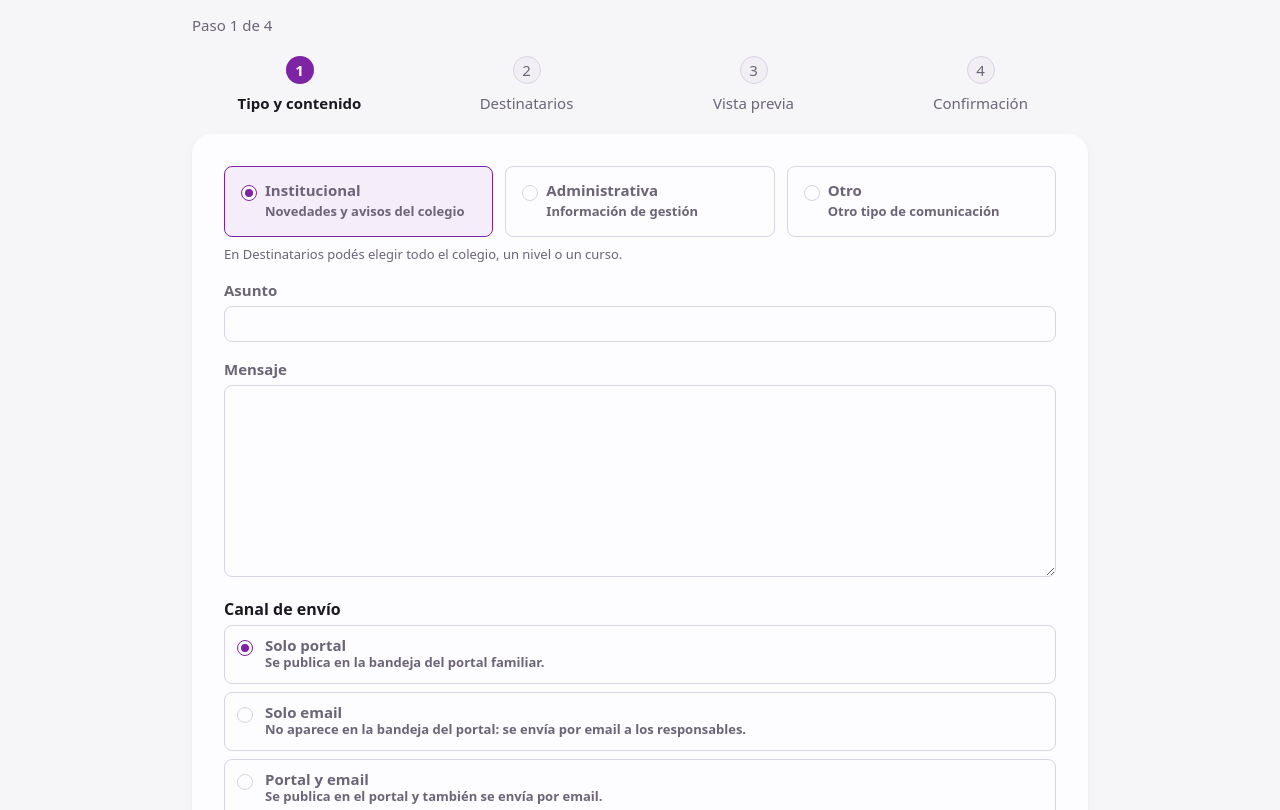
it: persists the email-only channel and never claims portal availability
The image size is (1280, 810).
Type "Aviso" into the field labelled "Asunto" at (640, 324), box [224,306,1056,342]
Type "Solo por correo" into the text box labelled "Mensaje" at (640, 481), box [224,385,1056,577]
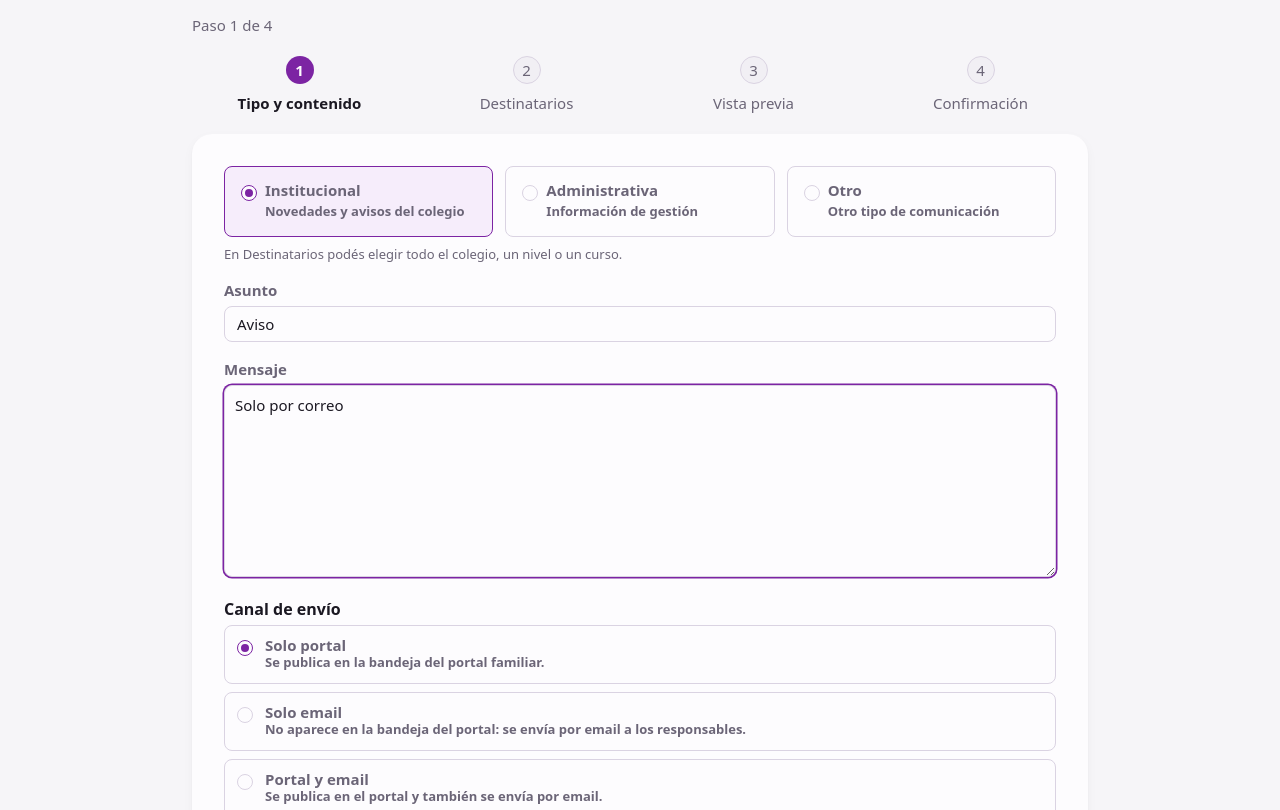
Click the radio button named "Solo email" next to "Solo email" at (245, 715), box [237,707,253,723]
(page scrolled)
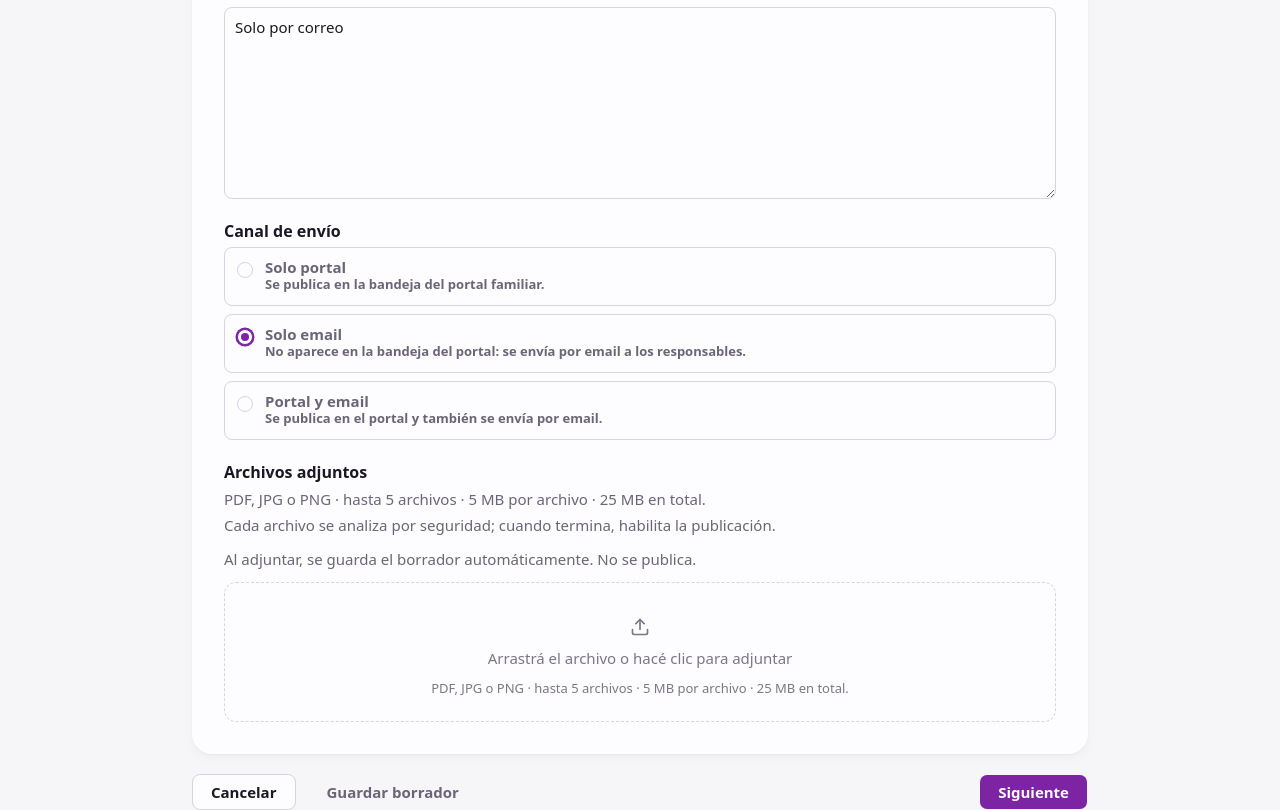
Expected: the text "No aparece en la bandeja del portal" is shown, [265,342,746,360]
Click the button "Guardar borrador" at (393, 792), box [308,774,478,809]
(page scrolled)
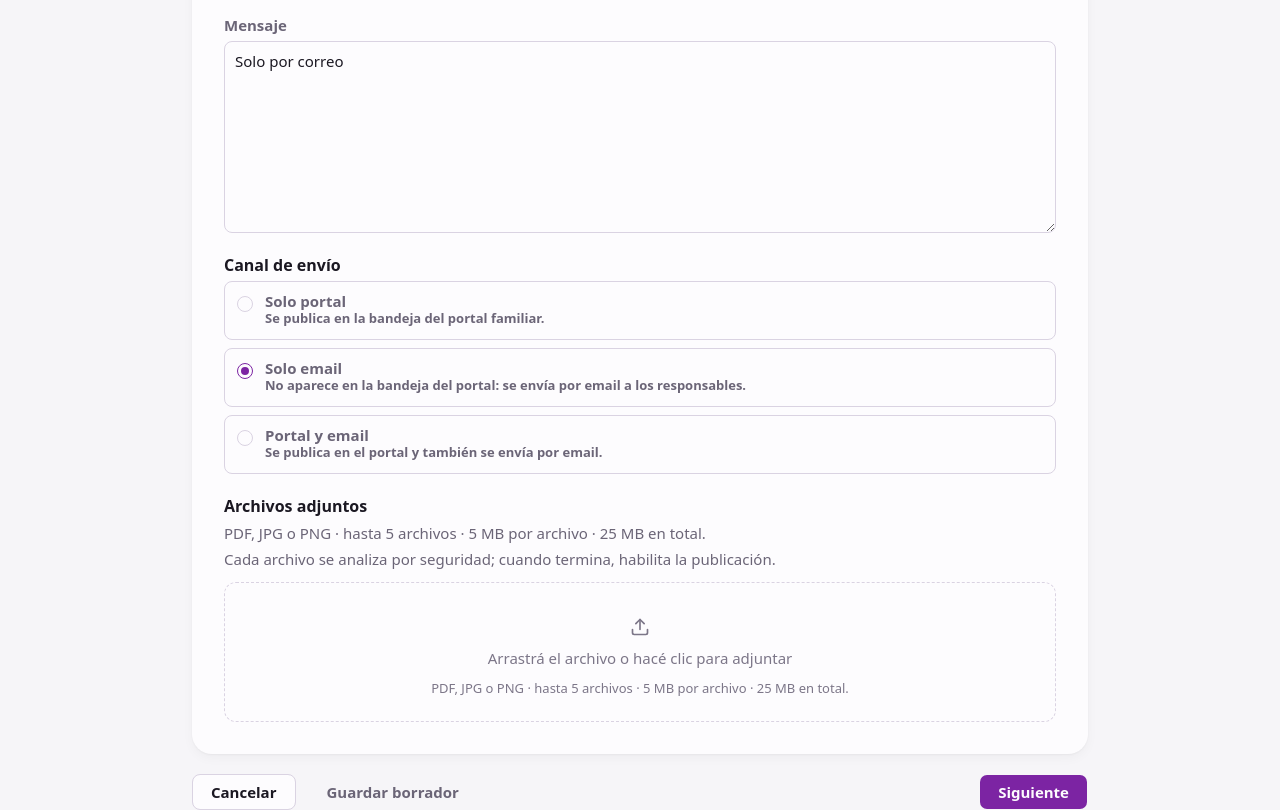
Click the button "Siguiente" at (1034, 792), box [979,774,1088,809]
(page scrolled)
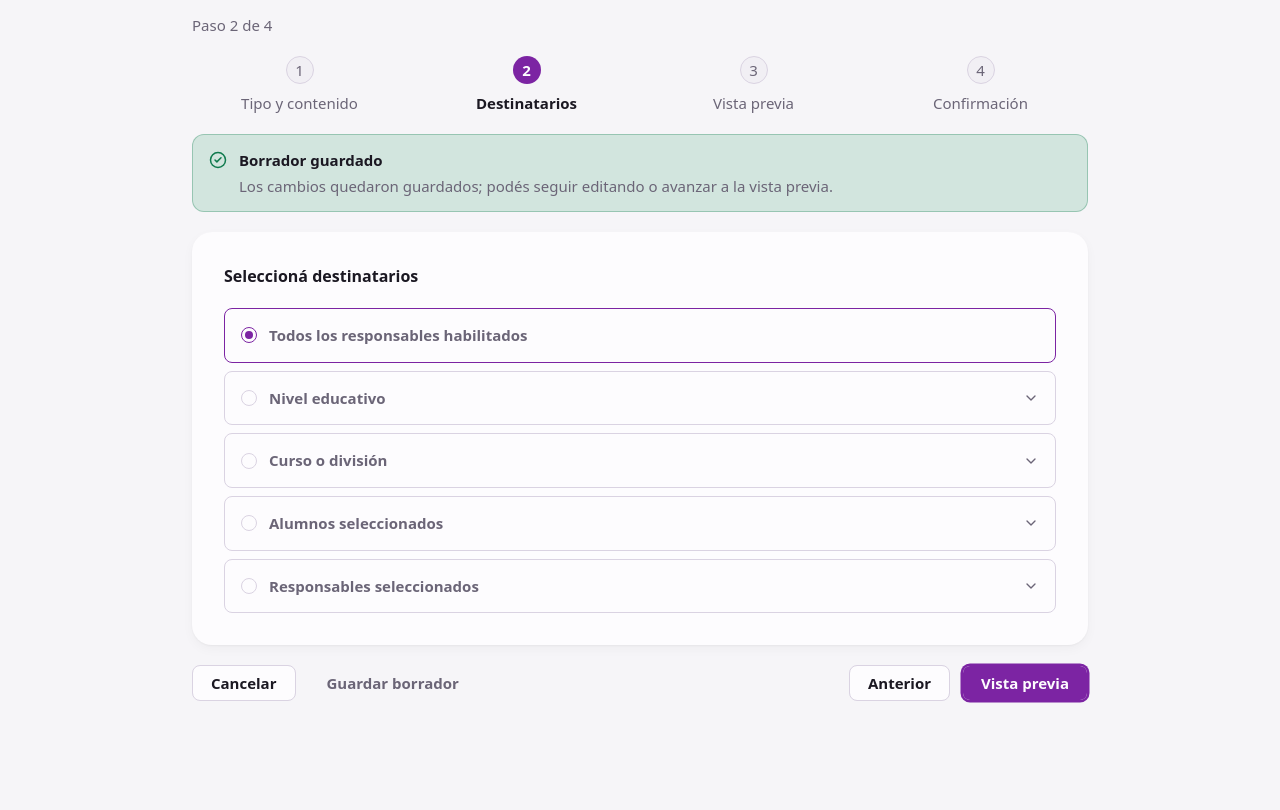
Click the button "Vista previa" at (1025, 683), box [962,665,1088,701]
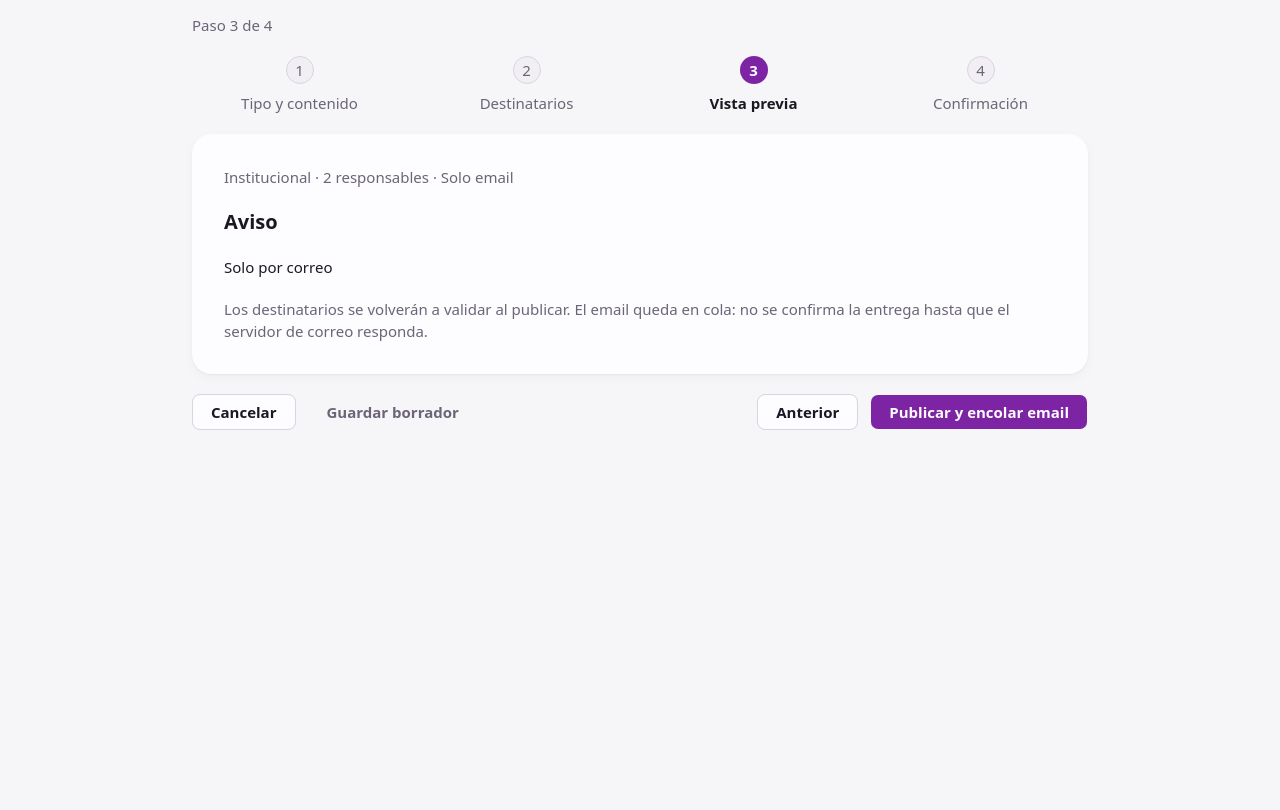
Click the button "Publicar y encolar email" at (979, 412), box [870,394,1088,430]
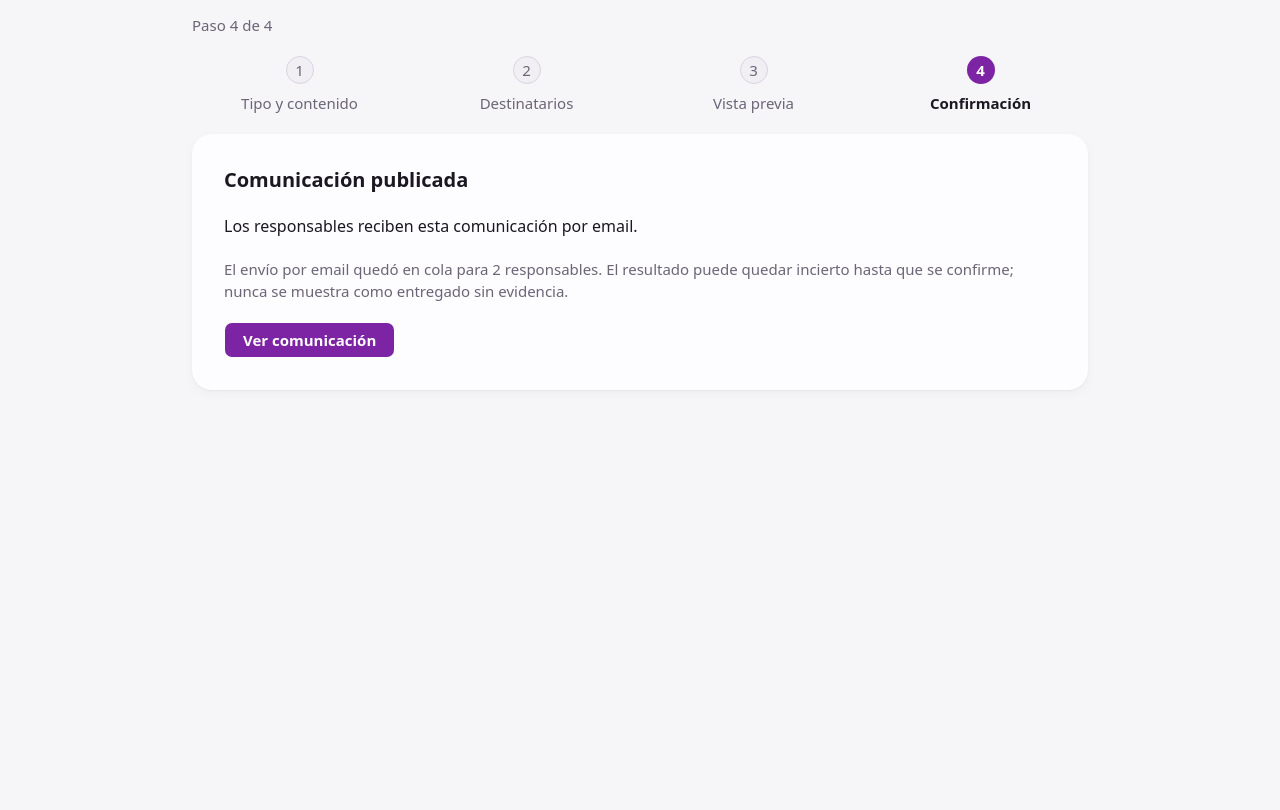
Expected: the text "Los responsables reciben esta comunicación por email." is shown, [224,215,638,237]
Expected: the text "quedó en cola para 2 responsables" is shown, [224,258,1056,302]
